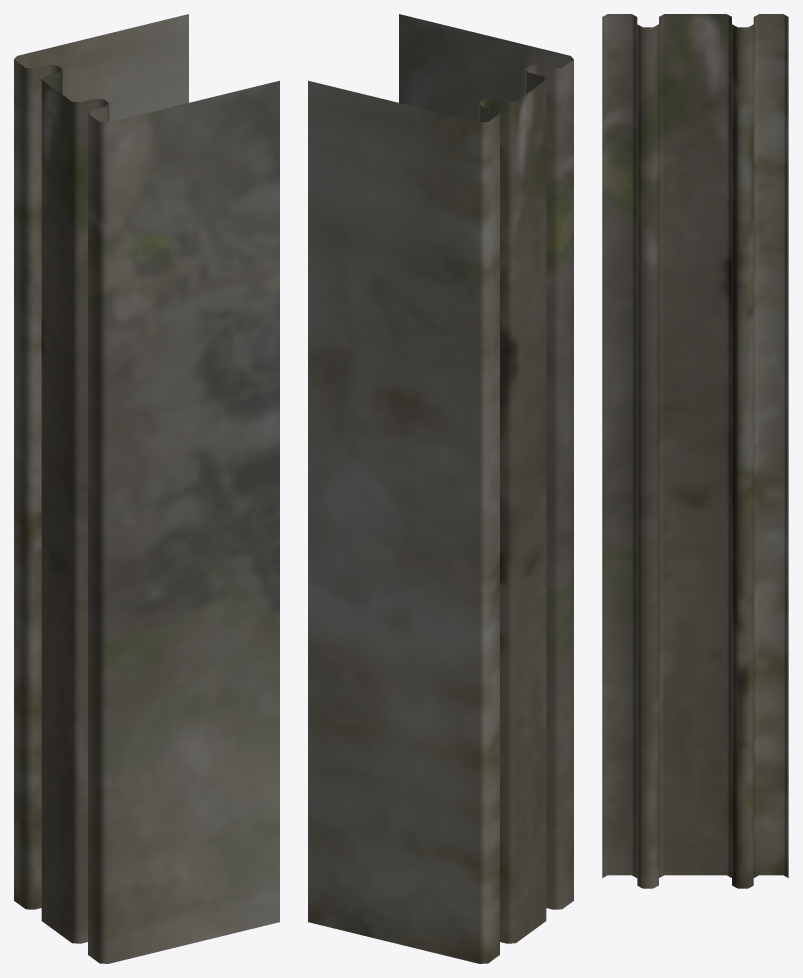
The model's file is Psychiatric_Ward_Guards_Room_Exterior_Pillar_2.glb.
3 views of the same model, side by side, from view 1: azimuth 30°, elevation 25°; view 2: azimuth 150°, elevation 25°; view 3: azimuth 270°, elevation 25° (orthographic). The views are drawn at different scales.
Parts seen in each view (by area): view 1: Psychiatric_Ward_Guards_Room_Exterior_Pillar_2; view 2: Psychiatric_Ward_Guards_Room_Exterior_Pillar_2; view 3: Psychiatric_Ward_Guards_Room_Exterior_Pillar_2.
Boxes of the visible parts, x1,y1,x2,y2 form: Psychiatric_Ward_Guards_Room_Exterior_Pillar_2: (14, 14, 279, 963); Psychiatric_Ward_Guards_Room_Exterior_Pillar_2: (308, 14, 573, 963); Psychiatric_Ward_Guards_Room_Exterior_Pillar_2: (602, 14, 788, 888).
Bounding box in the file's own units: 0.1907 × 0.8636 × 0.1694.
1 material, 1 textured.
